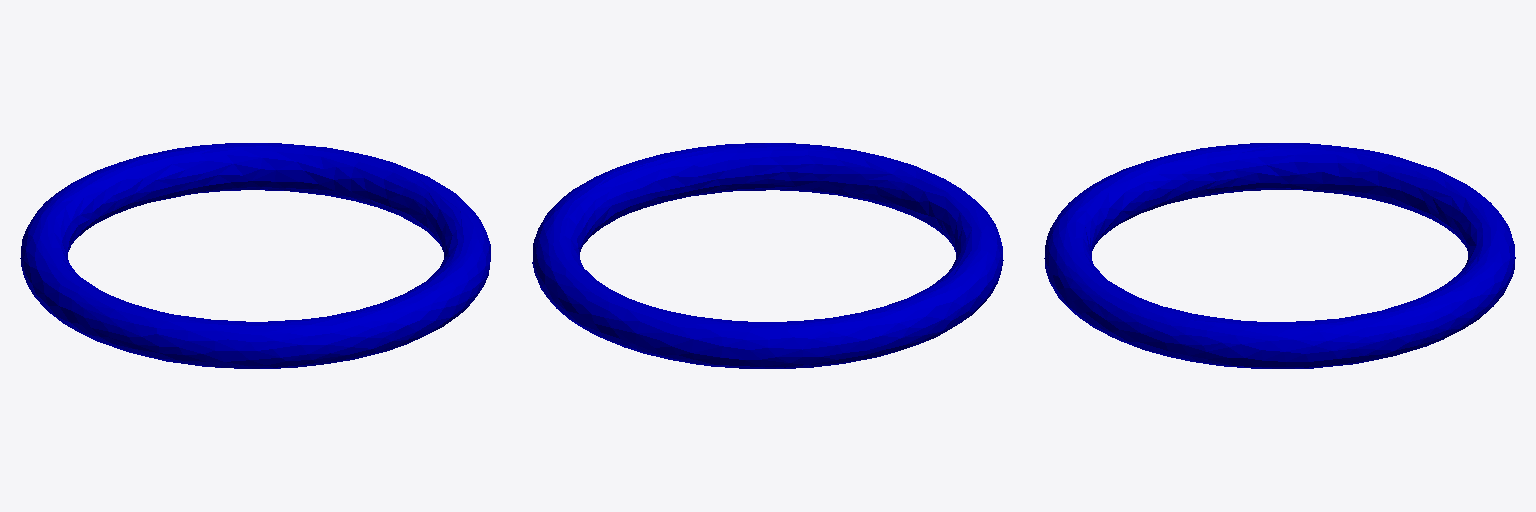
robot.urdf — physics 21:
<?xml version="1.0"?>
<robot  name="physics 21">
    <link name="Second">
        <visual>
            .<origin rpy="0 0 0" xyz="0 0 0"/>
            <geometry>
            <mesh scale= "0.0075 0.0075 0.0075" filename="Ring.obj"/>
            </geometry>
            <material name="Blue">
            <color rgba="0 0 .8 2"/>
            </material>
        </visual>

        <inertial>
            <origin rpy="0 0 0" xyz="0 0 0"/>
            <mass value=".05"/>
            <inertia ixx="0" ixy="0.0" ixz="0.0" iyy="0" iyz="0.0" izz="0"/>
        </inertial>
    </link>
</robot>  

--- Render facts (derived) ---
The picture shows the robot from 3 angles, left to right: view 1: azimuth 30°, elevation 25°; view 2: azimuth 150°, elevation 25°; view 3: azimuth 270°, elevation 25°; orthographic projection.
Model physics 21 with 1 links and 0 joints (none), rooted at Second, posed every joint at zero.
Links seen in each view (by area): view 1: Second; view 2: Second; view 3: Second.
Link boxes in pixels (<box>): Second: <box>20,143,490,368</box>; Second: <box>532,143,1003,368</box>; Second: <box>1044,143,1515,368</box>.
Bounding box of the posed robot: 0.7498 × 0.7492 × 0.0756 m (x, y, z).
Meshes: 1 distinct files referenced, 1 mesh visuals loaded (1 OBJ).